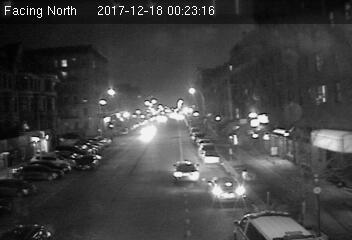car: (205, 176, 247, 207), (169, 159, 201, 184), (73, 153, 100, 169), (200, 150, 220, 167)
police: (228, 210, 315, 240)
